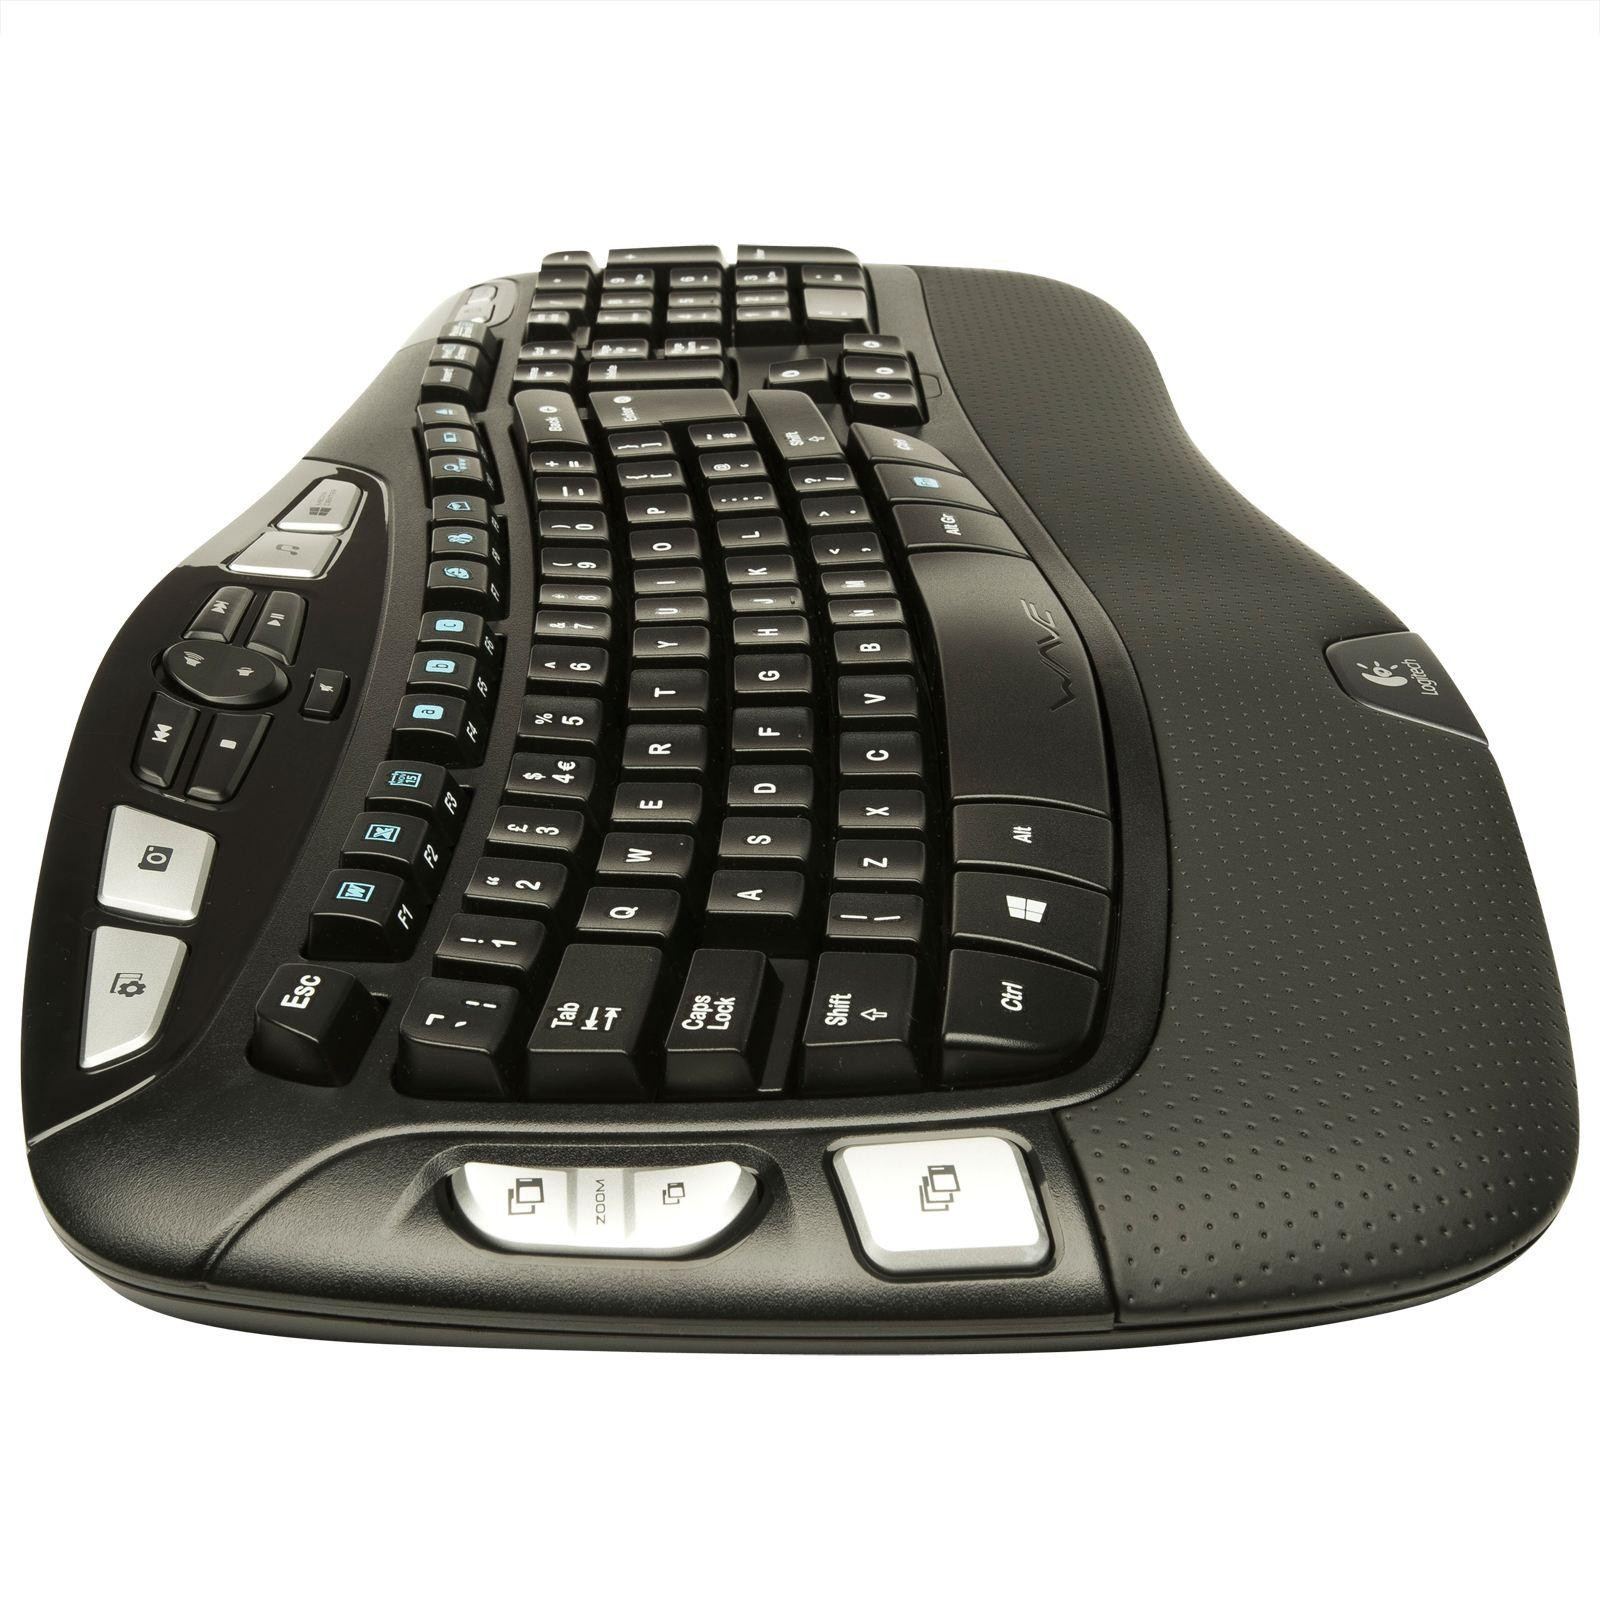keyboard: (7, 229, 1588, 1366)
